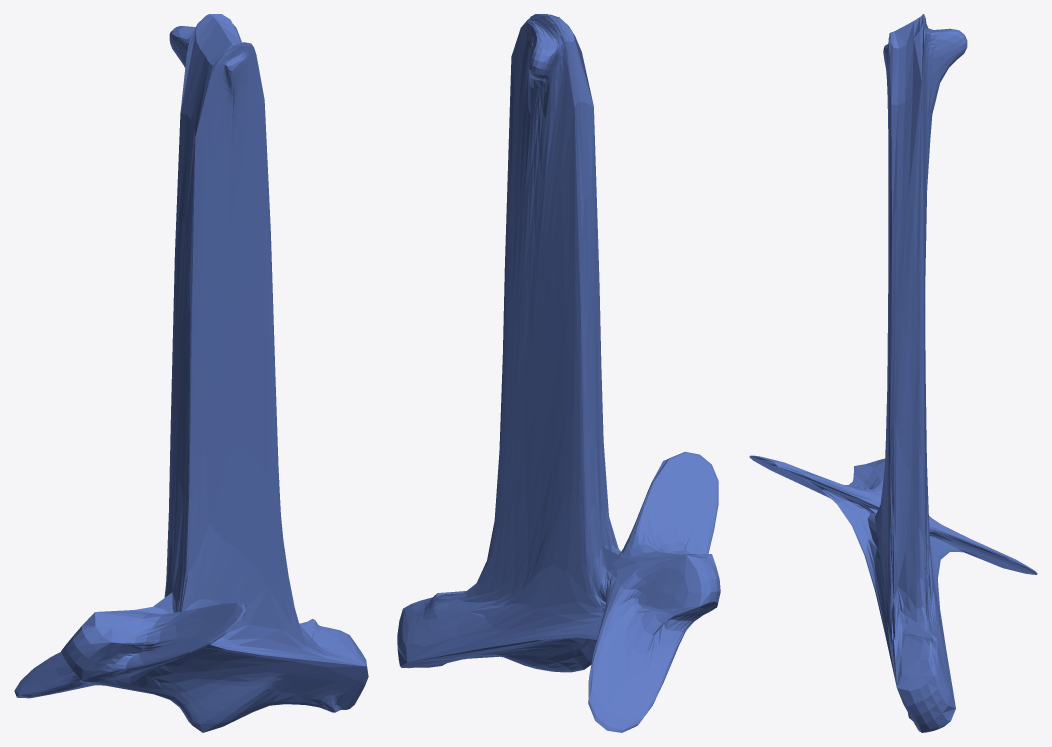
3 renders of one model, left to right at view 1: azimuth 30°, elevation 25°; view 2: azimuth 150°, elevation 25°; view 3: azimuth 270°, elevation 25°, orthographic. The views are drawn at different scales.
Visible parts, largest first — view 1: 381_Cube.1552; view 2: 381_Cube.1552; view 3: 381_Cube.1552.
Part boxes in pixels (bbox=[...]): 381_Cube.1552: bbox=[14, 14, 368, 732]; 381_Cube.1552: bbox=[397, 14, 720, 732]; 381_Cube.1552: bbox=[749, 14, 1037, 732].
Size of the model in its own units: 5.54 by 12.26 by 4.88.
